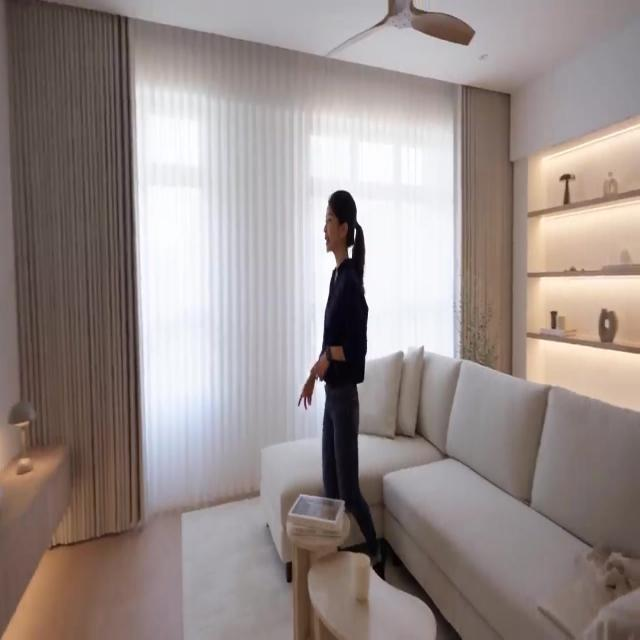obstacle: (260, 344, 640, 638), (0, 441, 72, 635)
person: (297, 190, 379, 564)
